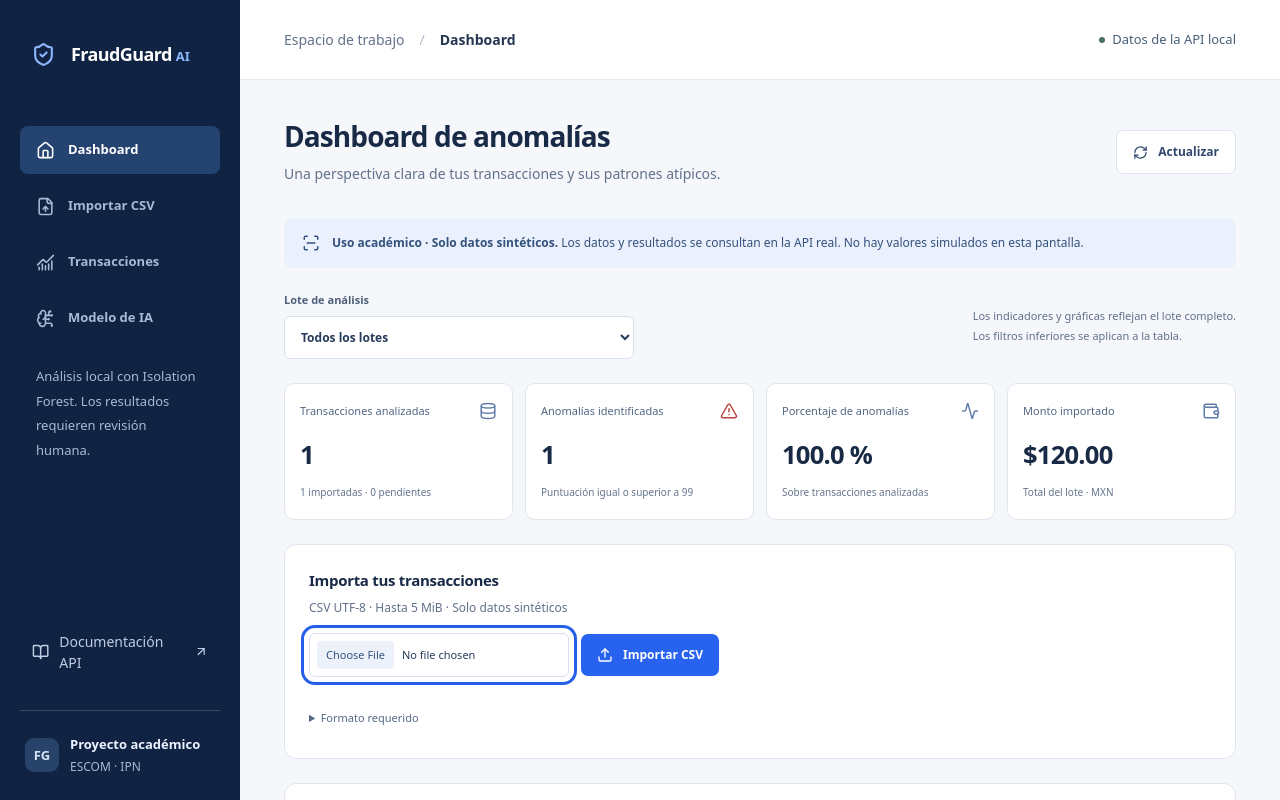
Test case: Dashboard conectado › conserva el error de validación del CSV sin inventar resultados
Earlier steps of the test are not shown.
Click the button "Importar CSV" at (650, 655), box [581,634,719,676]
(page scrolled)
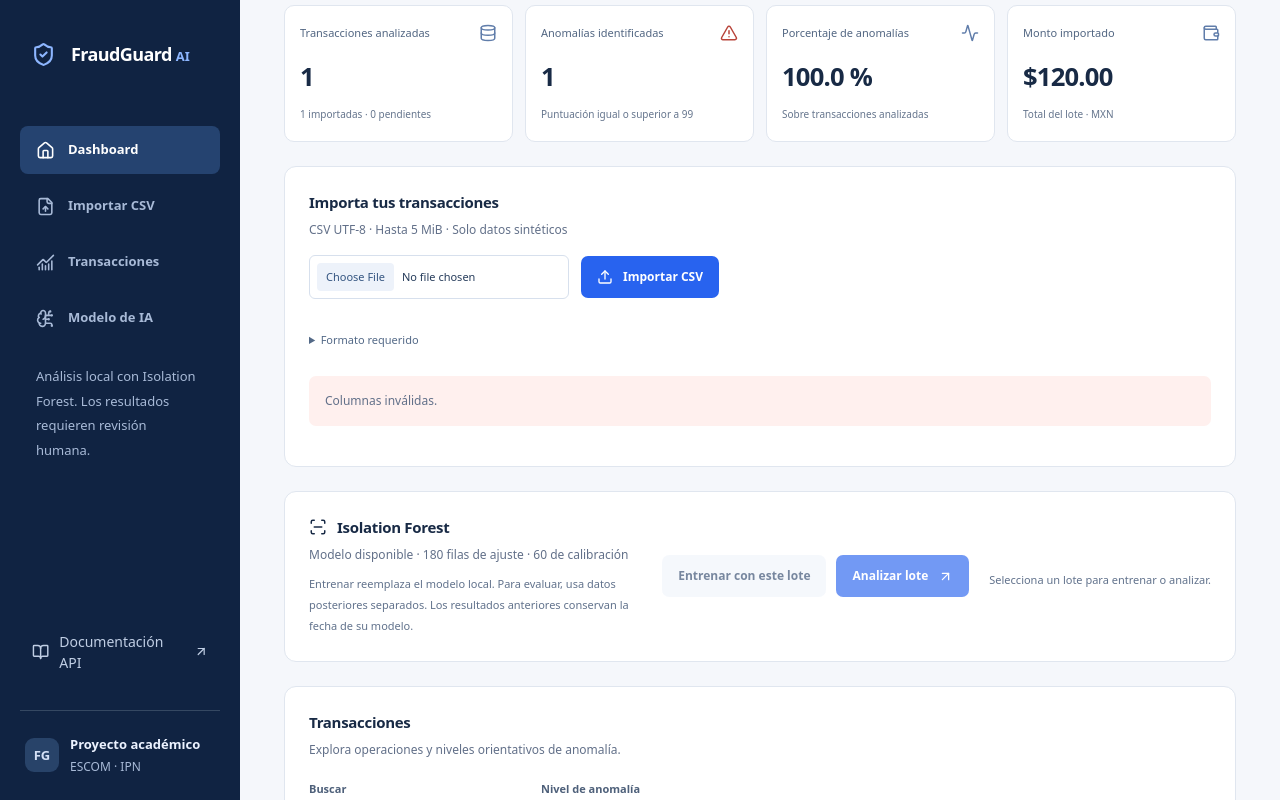
Check: the message reads "Columnas inválidas.", box [325,392,437,409]
